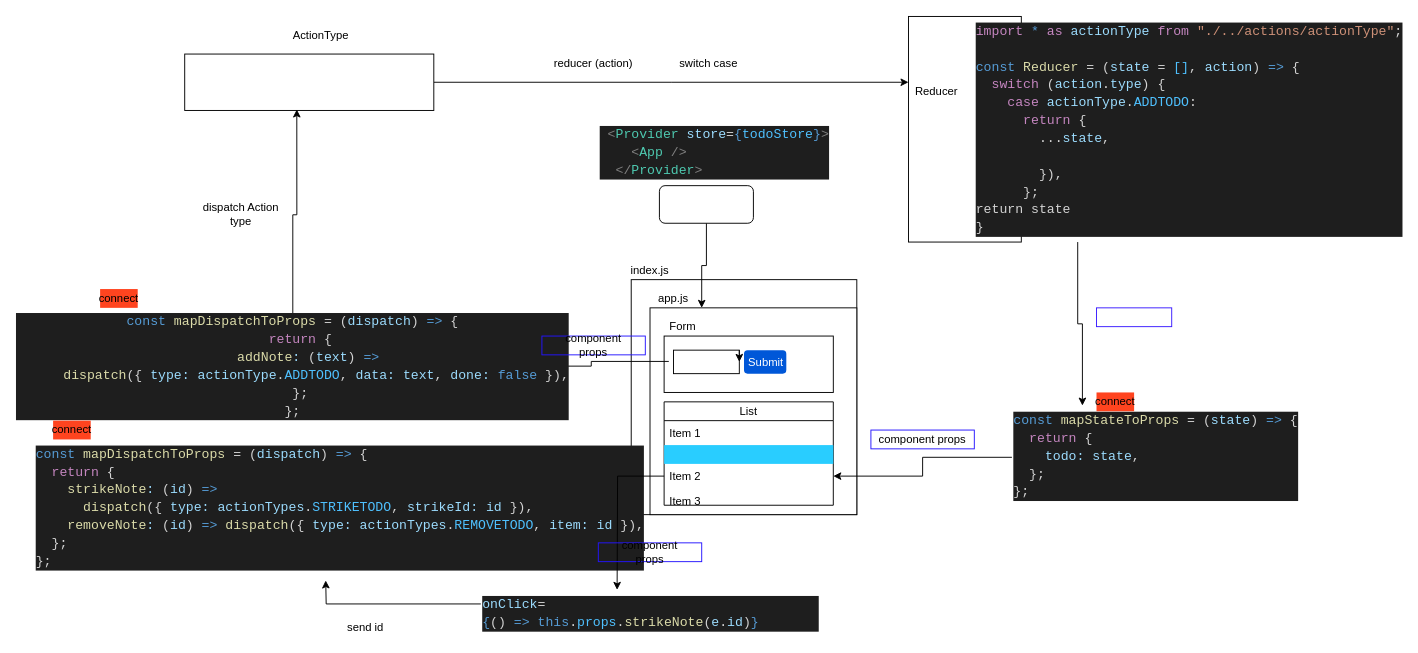
Image size: 1418x653. Some labels were removed from this diagram. The centre of each missing label's shape, as x and y in pixels:
export const ADDTODO = "ADDTODO" ;: (x=309, y=81)
message: (x=706, y=361)
reducer State: (x=1134, y=317)
store: (x=705, y=204)
todo.map: (x=748, y=454)
